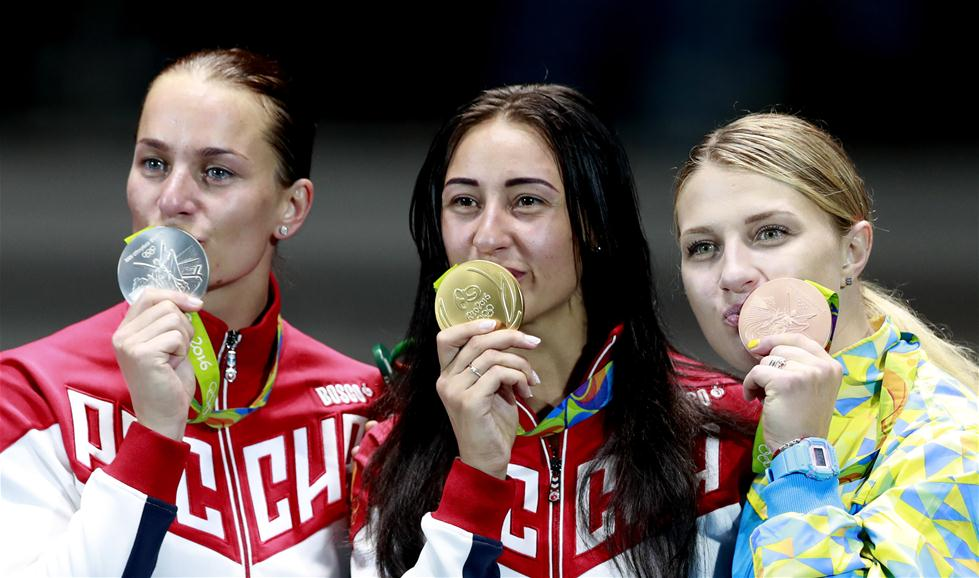face: (124, 88, 286, 278), (680, 171, 836, 368), (438, 126, 573, 318)
